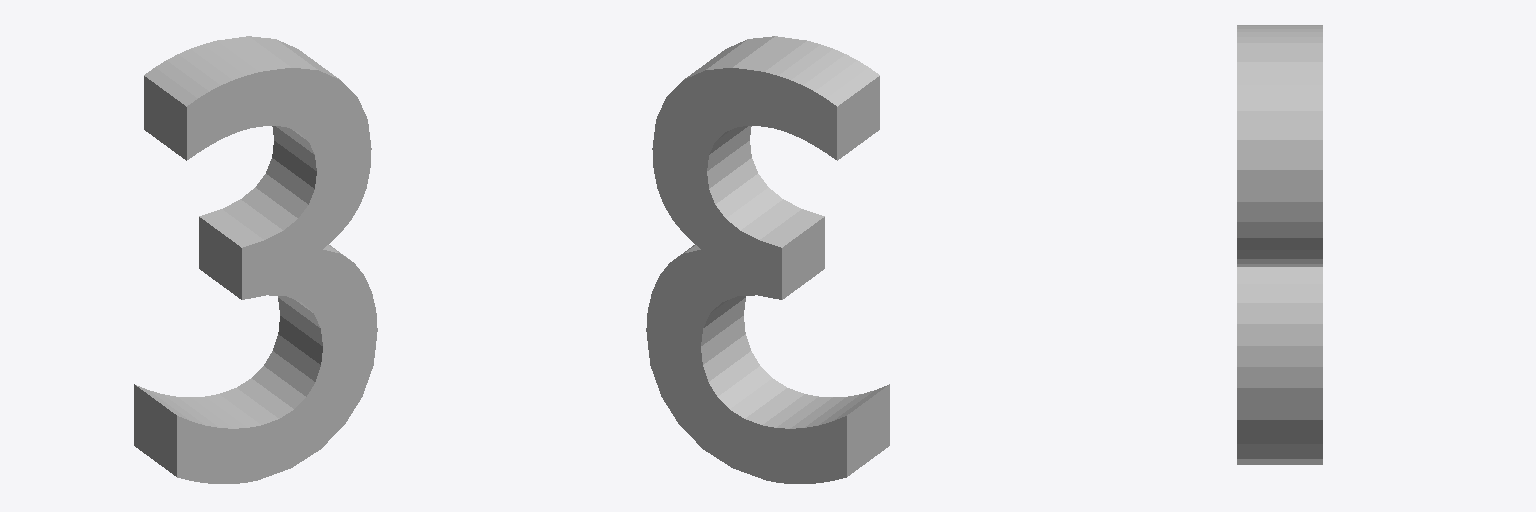
3 views of the same model, side by side, from view 1: azimuth 30°, elevation 25°; view 2: azimuth 150°, elevation 25°; view 3: azimuth 270°, elevation 25° (orthographic).
Visible parts, largest first — view 1: テキスト.003; view 2: テキスト.003; view 3: テキスト.003.
Boxes of the visible parts, <box> form: テキスト.003: <box>134,36,377,483</box>; テキスト.003: <box>646,36,889,483</box>; テキスト.003: <box>1237,25,1322,464</box>.
Bounding box in the file's own units: 1.08 × 2.1 × 0.4.